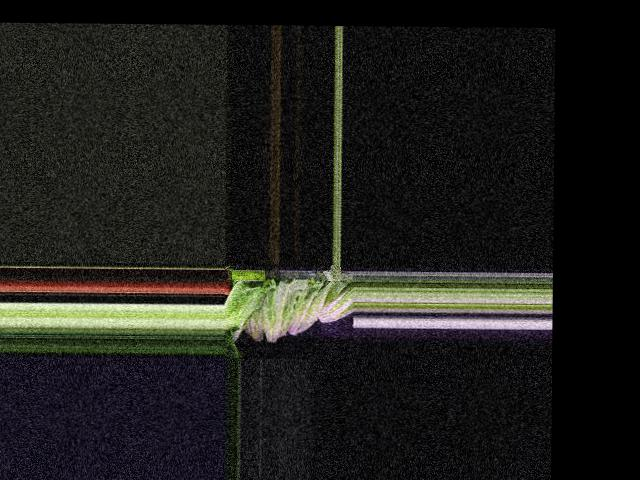lettuce: (315, 283, 354, 325)
